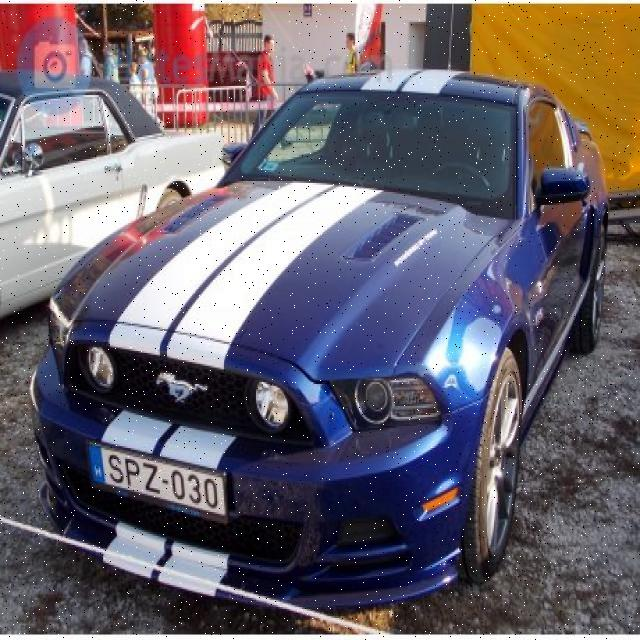licence: (85, 434, 232, 528)
